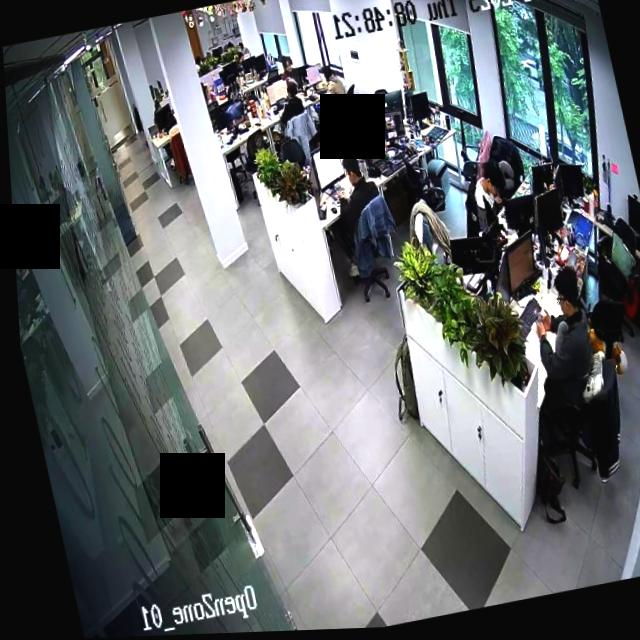person: (515, 267, 603, 415), (331, 150, 388, 246), (464, 163, 514, 247), (271, 78, 310, 141), (314, 65, 351, 124), (275, 54, 300, 89)
